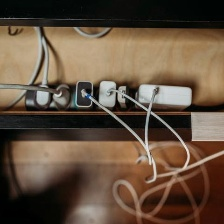three_eye_plug: (21, 80, 192, 113)
